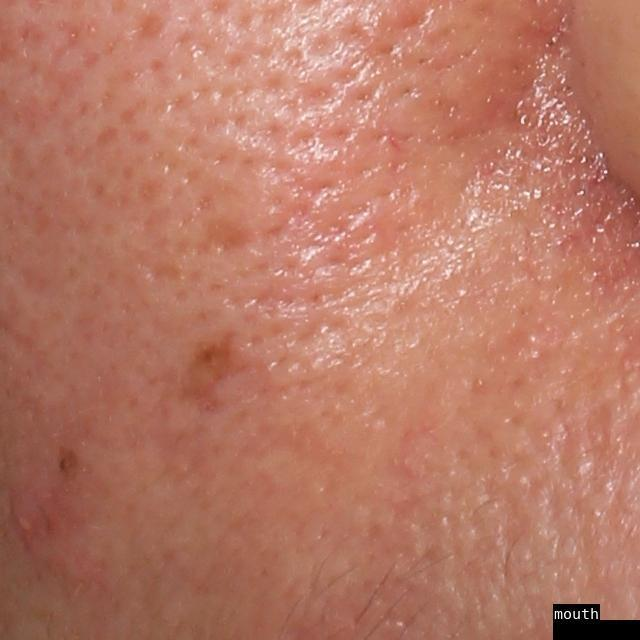atrophic_scar: (178, 331, 247, 426), (132, 11, 165, 45)
nevus: (55, 446, 78, 481)
other: (169, 323, 238, 432)
